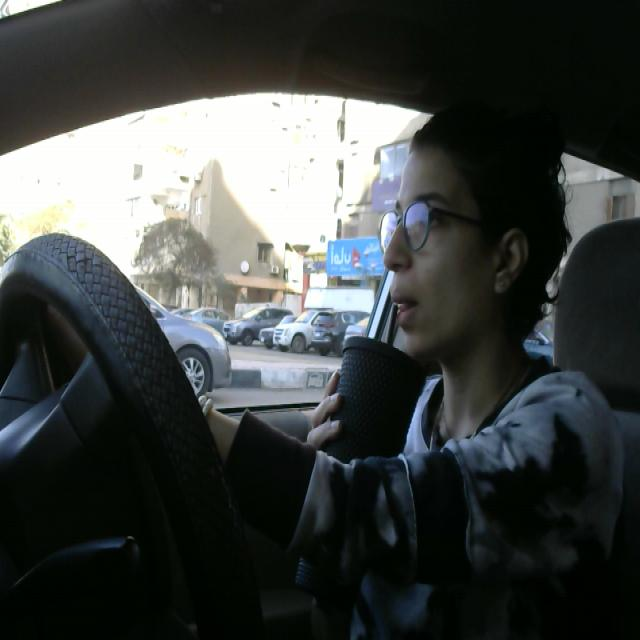drinking: (287, 290, 433, 606)
